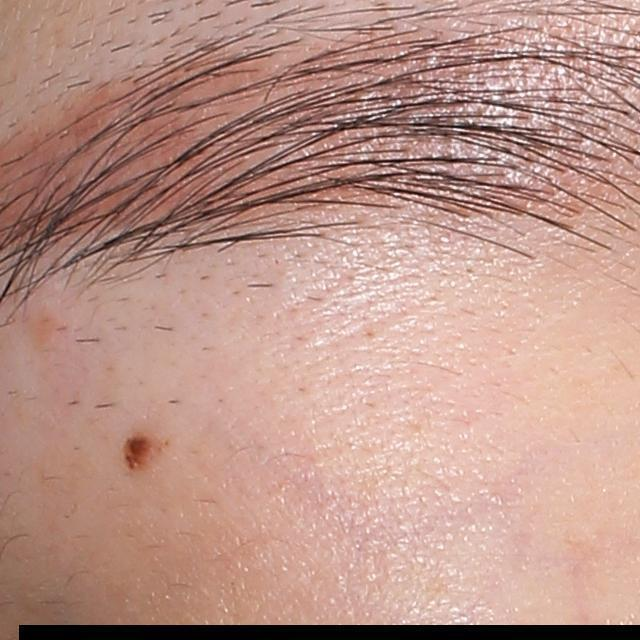nevus: (120, 428, 170, 475)
